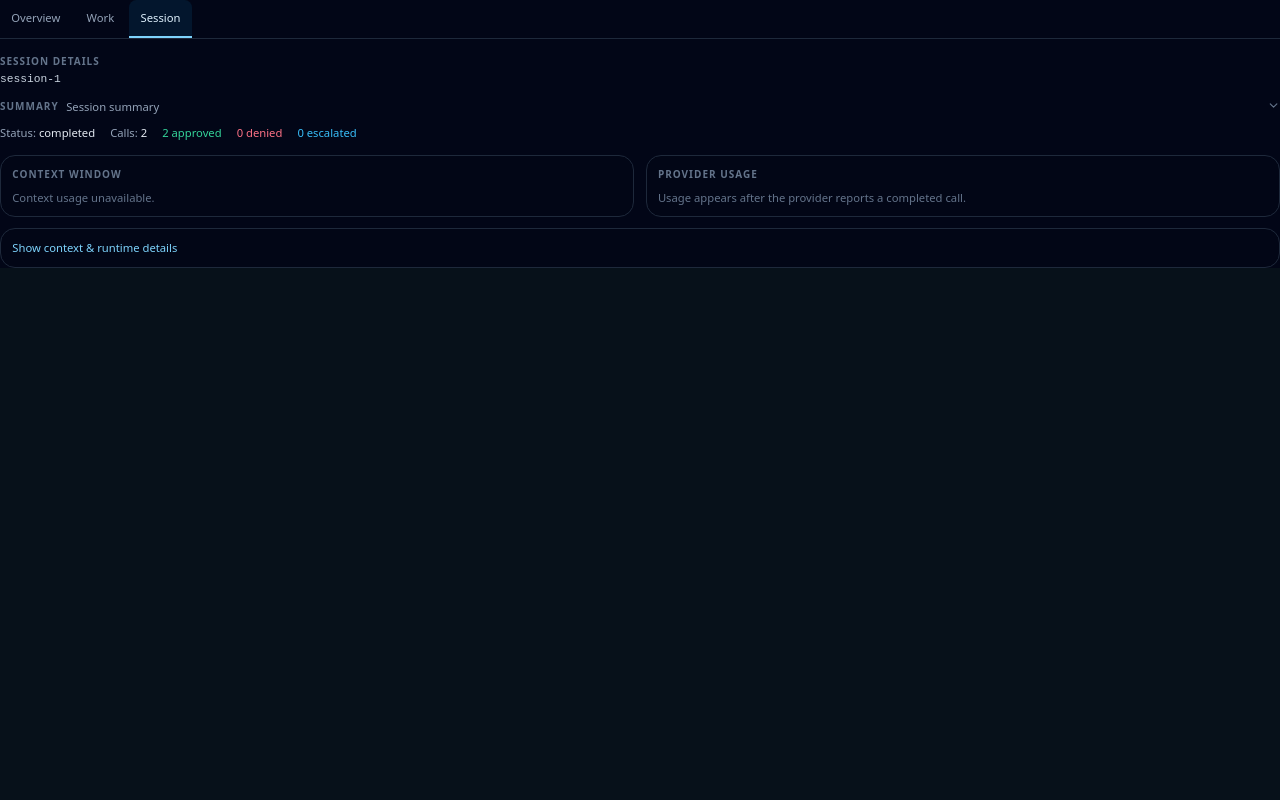
Scenario: SharedInspectorTabs › keeps loaded Session content visible when background Overview fails without retained data
The width and height of the screenshot is (1280, 800).
Expected: the text "Session summary" is shown, top-left (66, 98), bottom-right (159, 114)
Click the tab "Overview" at (36, 19), box top-left (0, 0), bottom-right (72, 38)
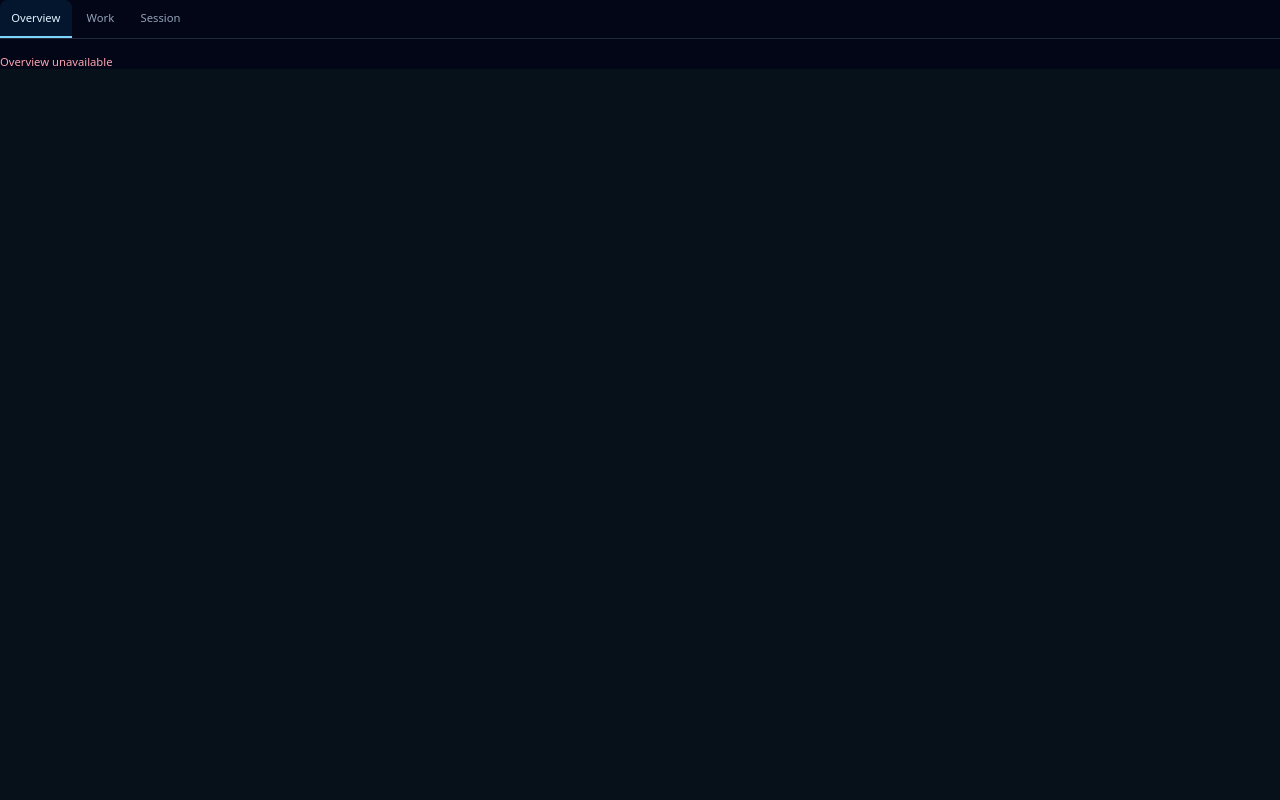
Expected: the message reads "Overview unavailable", top-left (0, 54), bottom-right (112, 68)
